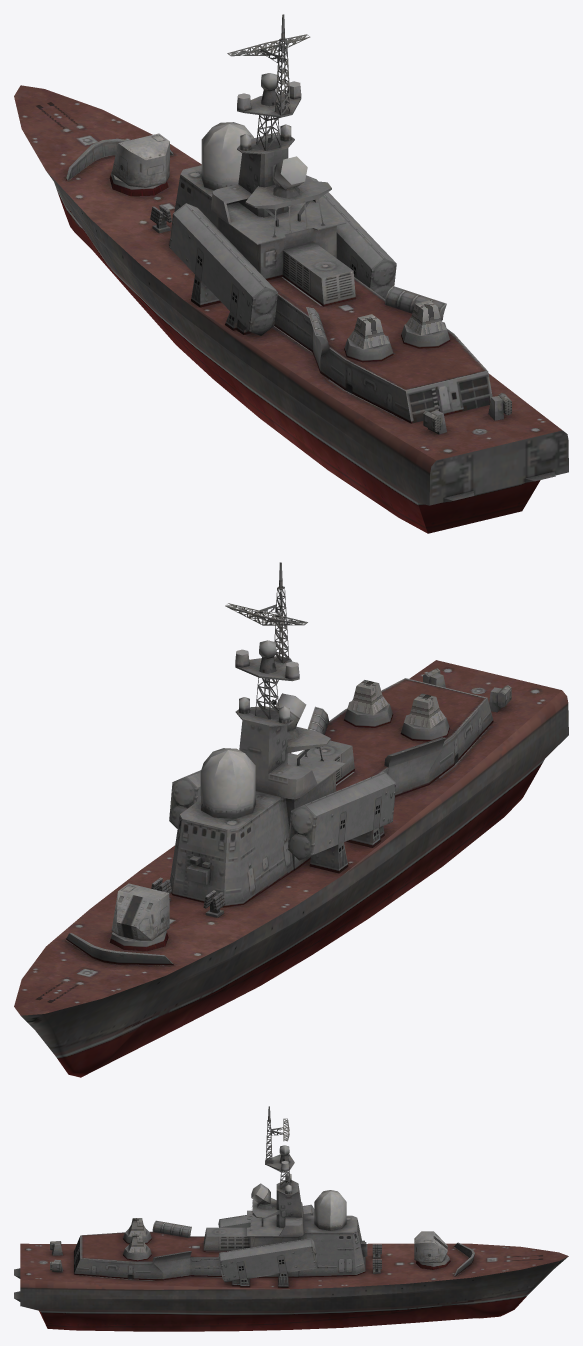
The model's file is CruiserSmall.FBX.
The picture shows the model from 3 angles, top to bottom: view 1: azimuth 30°, elevation 25°; view 2: azimuth 150°, elevation 25°; view 3: azimuth 270°, elevation 25°; orthographic projection. The views are drawn at different scales.
Parts seen in each view (by area): view 1: DrawCall21, DrawCall24, DrawCall22, DrawCall23; view 2: DrawCall21, DrawCall24, DrawCall23, DrawCall22; view 3: DrawCall21, DrawCall24.
Boxes of the visible parts, bbox=[...] form: DrawCall21: bbox=[14, 14, 568, 533]; DrawCall24: bbox=[111, 133, 169, 187]; DrawCall22: bbox=[348, 314, 389, 349]; DrawCall23: bbox=[405, 300, 446, 335]; DrawCall21: bbox=[14, 562, 568, 1077]; DrawCall24: bbox=[111, 883, 169, 940]; DrawCall23: bbox=[347, 680, 388, 714]; DrawCall22: bbox=[404, 693, 445, 728]; DrawCall21: bbox=[14, 1106, 568, 1331]; DrawCall24: bbox=[414, 1231, 447, 1262].
Size of the model in its own units: 10.5 by 23.66 by 56.01.
Materials: 3 (3 with a texture image).
